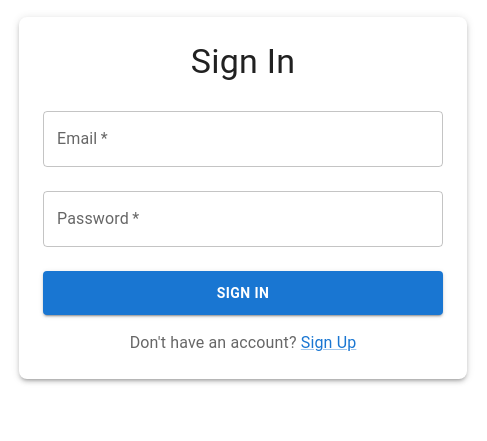
Authentication Flow › Sign In › should show an error for invalid credentials
Type "invalid@user.com" into the field labelled "Email *" at (243,139), box [43, 111, 443, 167]
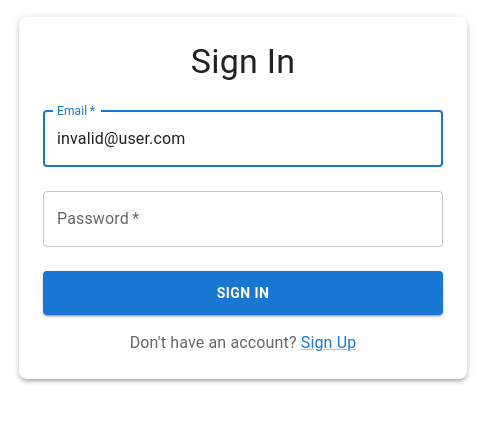
Type "wrongpassword" into the password field labelled "Password *" at (243,219), box [43, 191, 443, 247]
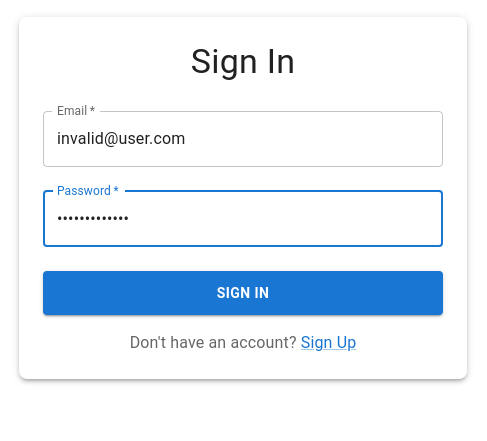
Click the submit button at (243,294), box [43, 271, 443, 316]
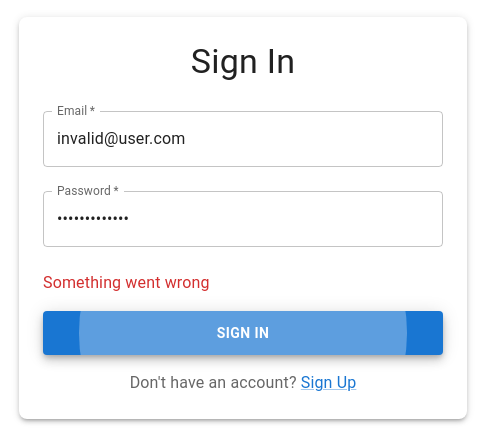
Check: the text "Something went wrong" is shown, box [43, 273, 210, 292]
